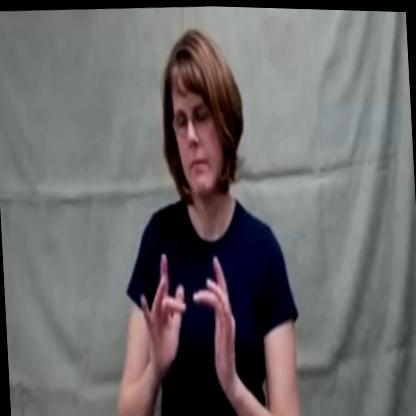Internet: (134, 229, 242, 376)
